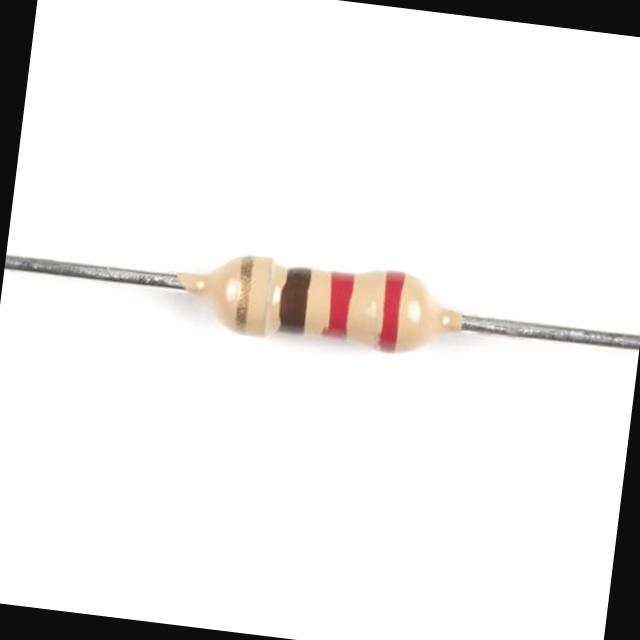Resistor: (205, 247, 432, 356)
